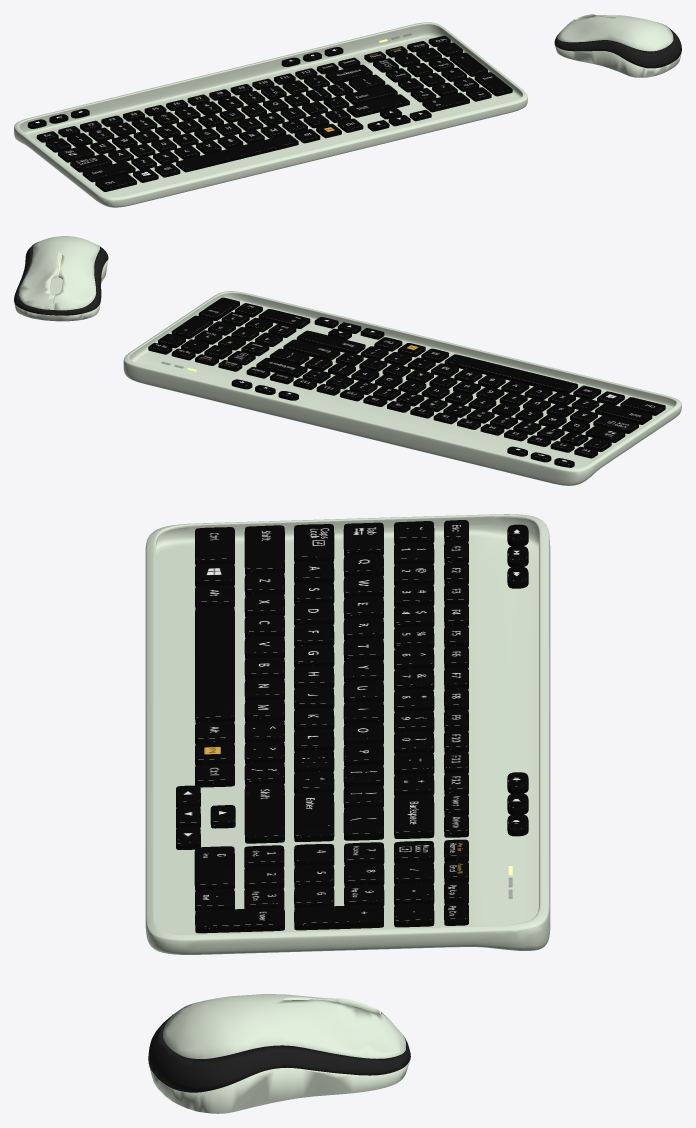
Rendered from keyboard1.glb.
The picture shows the model from 3 angles, top to bottom: view 1: azimuth 30°, elevation 25°; view 2: azimuth 150°, elevation 25°; view 3: azimuth 270°, elevation 25°; orthographic projection. The views are drawn at different scales.
Parts seen in each view (by area): view 1: Plane.017_4, Plane.027_2, Plane.015_1; view 2: Plane.017_4, Plane.027_2, Plane.015_1; view 3: Plane.017_4, Plane.027_2, Plane.015_1.
Part boxes in pixels (left/top/right/bottom): Plane.017_4: left=27, top=35, right=512, bottom=191; Plane.027_2: left=14, top=22, right=527, bottom=207; Plane.015_1: left=554, top=14, right=681, bottom=77; Plane.017_4: left=148, top=297, right=665, bottom=467; Plane.027_2: left=123, top=291, right=681, bottom=485; Plane.015_1: left=14, top=236, right=108, bottom=321; Plane.017_4: left=176, top=520, right=528, bottom=933; Plane.027_2: left=145, top=514, right=550, bottom=954; Plane.015_1: left=148, top=994, right=410, bottom=1113.
Bounding box in the file's own units: 10.81 × 0.6622 × 3.22.
Materials: 7 (1 with a texture image).
